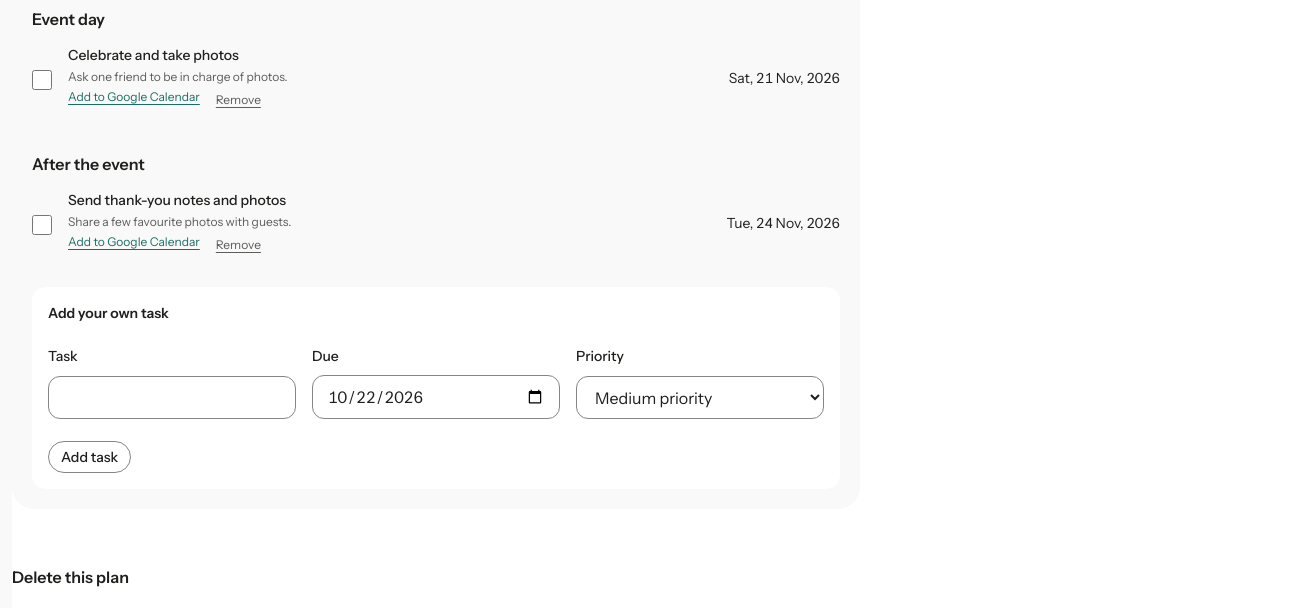
it: timeline tab › adds a custom task and validates the form
(page scrolled)
Click the button "Add task" at (90, 457), box [48,441,131,473]
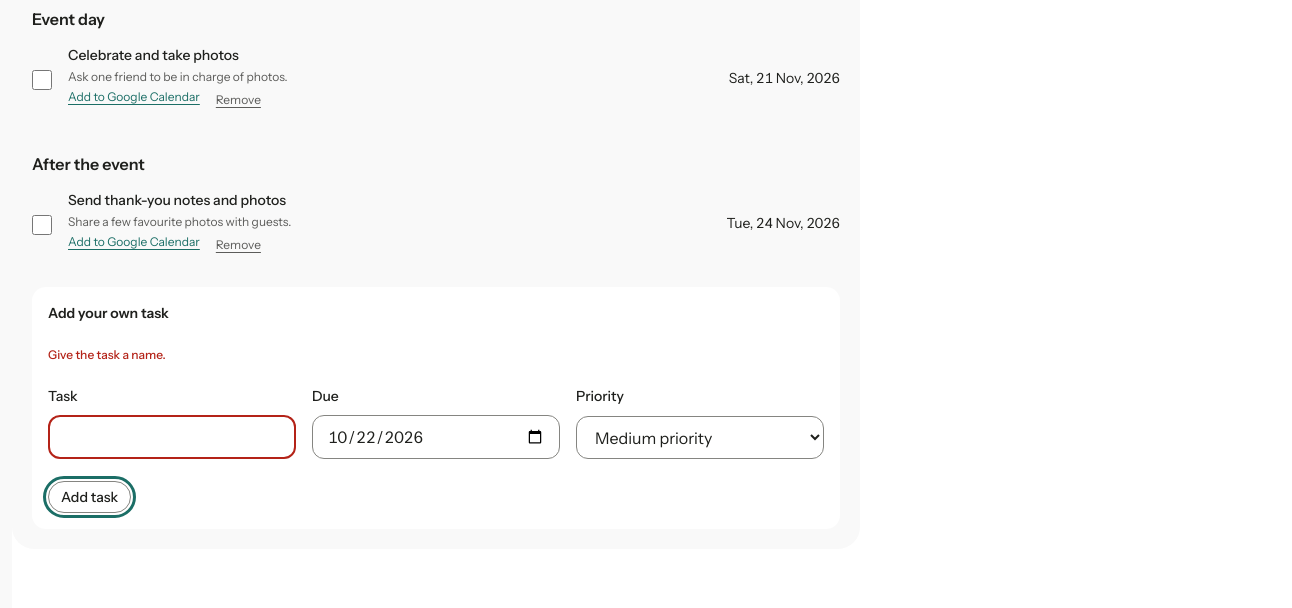
Type "Buy candles" into the field labelled "Task" at (172, 437), box [48,415,296,459]
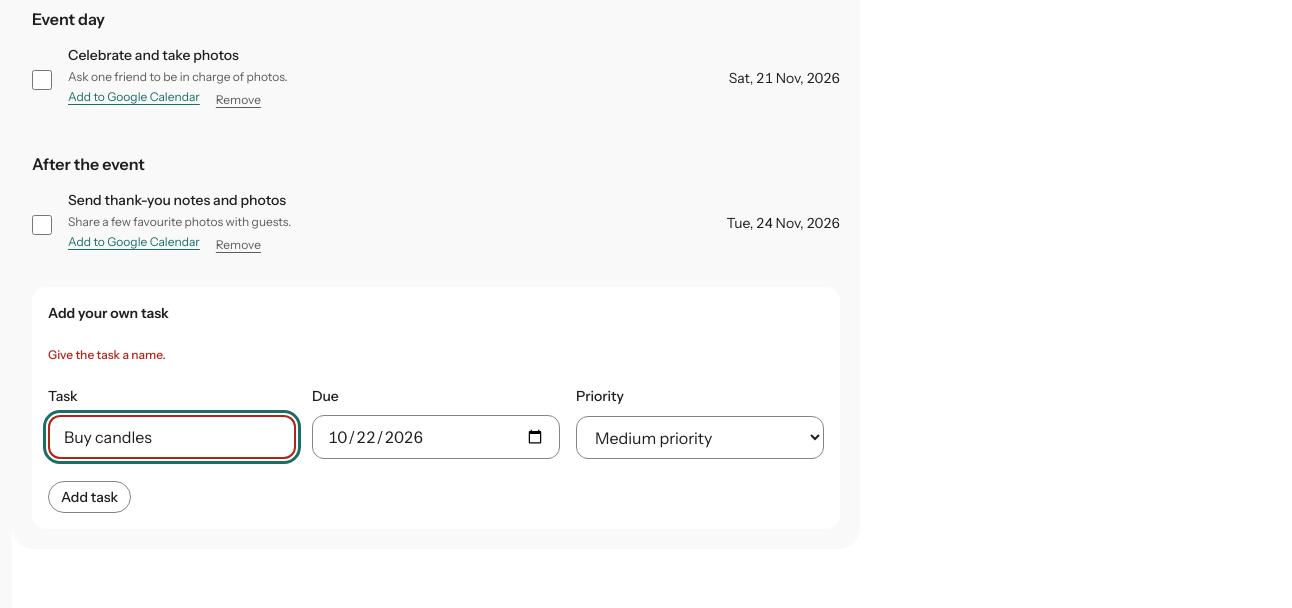
Click the button "Add task" at (90, 497), box [48,481,131,513]
(page scrolled)
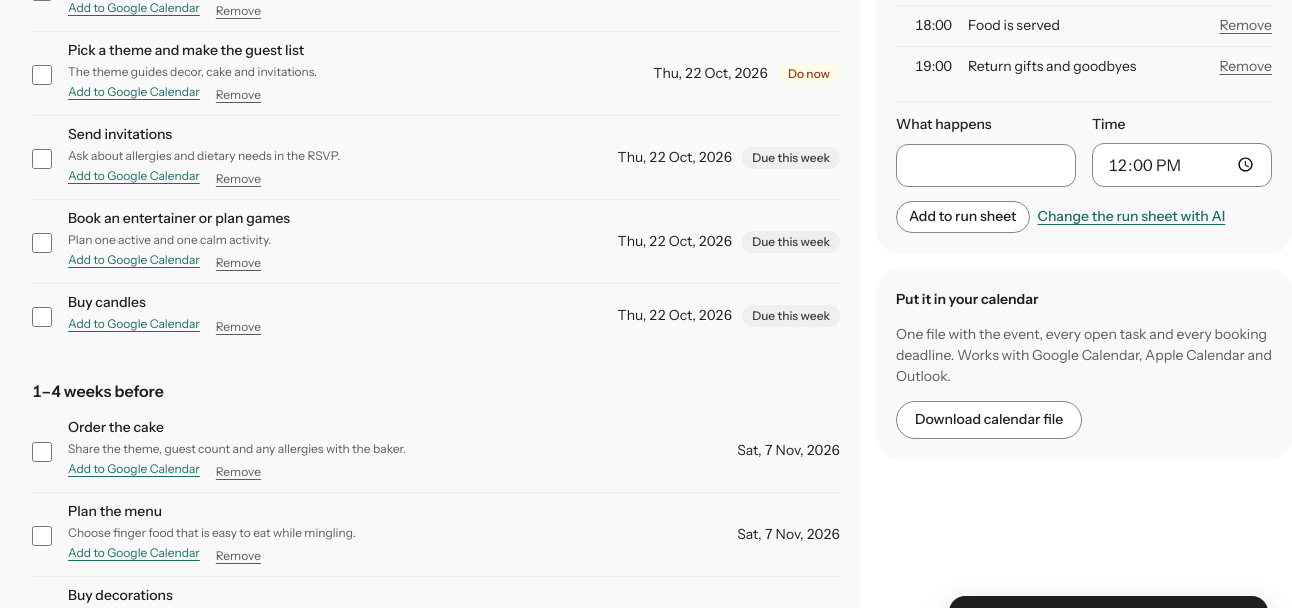
Expected: the checkbox labelled "Buy candles" is shown, [32,307,52,327]
